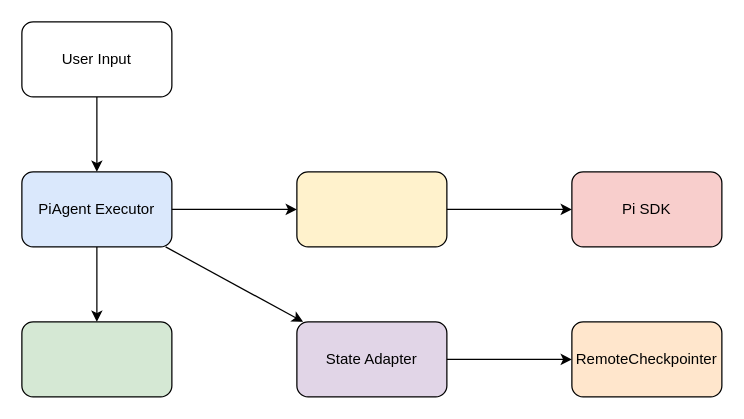
Some shapes in this 744 by 419 pixel diagram are drawn without their labels. The shapes that lost their labels are listed below. From the top down, each one's centre as x and y in pixels, then its label:
point (371, 209): Pi Provider
point (96, 359): Tool Registry
